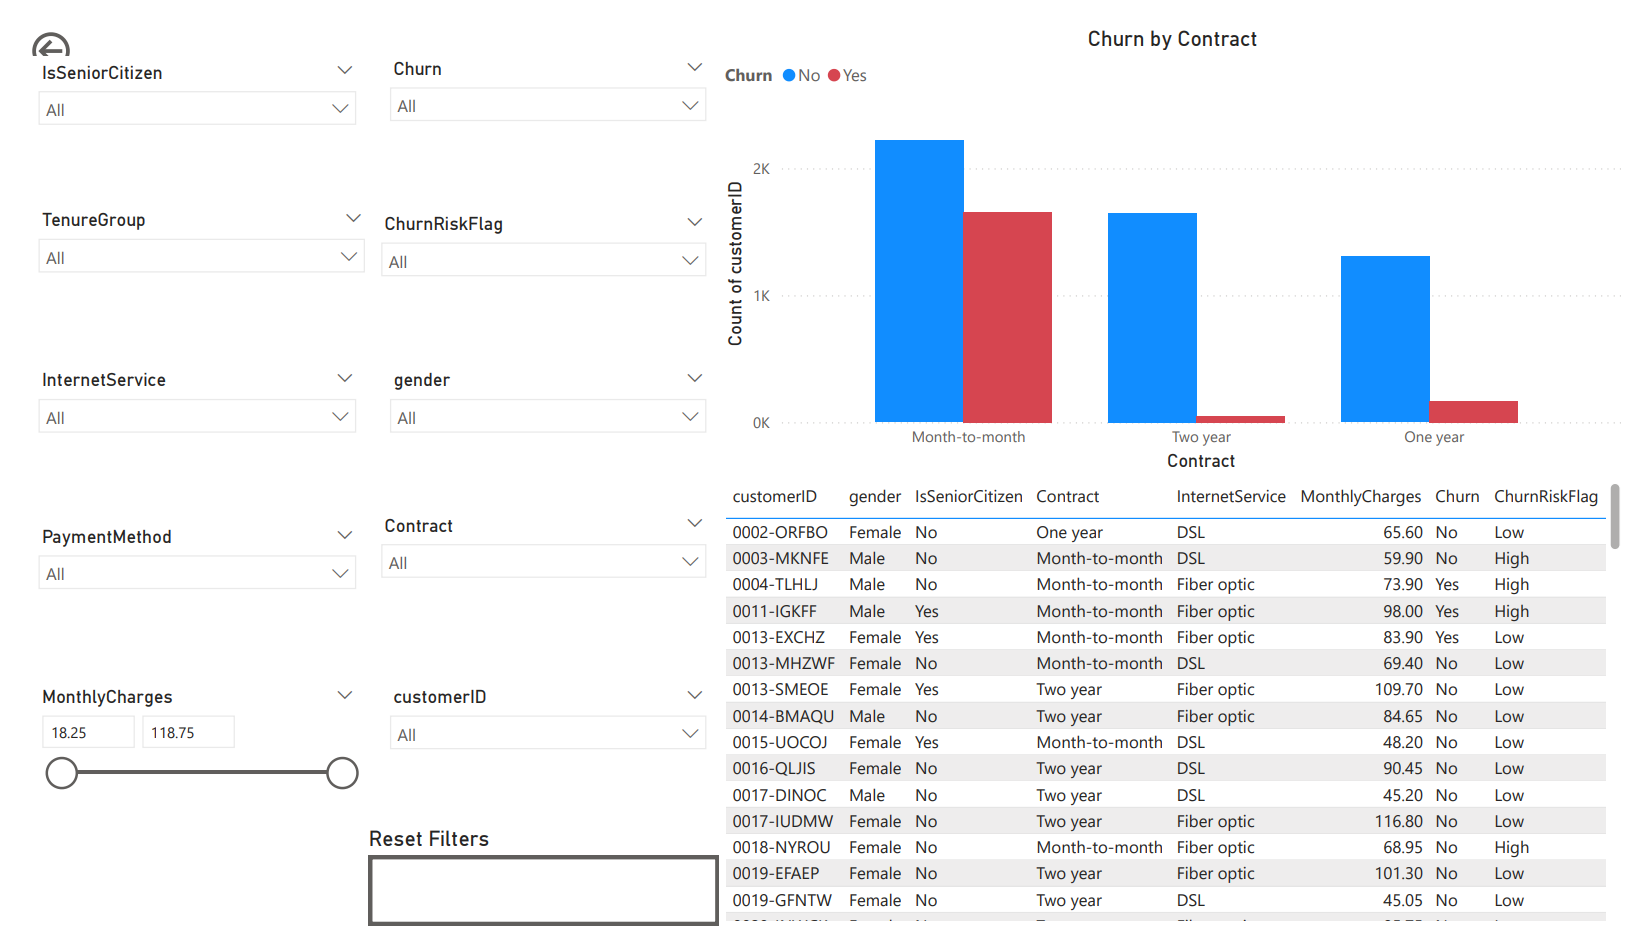

Layout of this report page (visuals, bound fields, positions):
{"tool":"powerbi","page":{"name":"Slicers","canvas":[1280,720],"ordinal":4},"visuals":[{"type":"actionButton","box":[0,0,100,40],"z":0},{"type":"slicer","fields":{"Values":["churn_data_for_dashboard.gender"]},"box":[280.5,270.1,273.6,103.9],"z":1000},{"type":"slicer","fields":{"Values":["churn_data_for_dashboard.Churn"]},"box":[280.5,20.8,273.6,124.7],"z":2000},{"type":"slicer","fields":{"Values":["churn_data_for_dashboard.ChurnRiskFlag"]},"box":[273.6,145.5,280.5,112.6],"z":3000},{"type":"slicer","fields":{"Values":["churn_data_for_dashboard.Contract"]},"box":[273.6,386.2,280.5,110.8],"z":4000},{"type":"slicer","fields":{"Values":["churn_data_for_dashboard.IsSeniorCitizen"]},"box":[0,24.2,273.6,121.2],"z":5000},{"type":"slicer","fields":{"Values":["churn_data_for_dashboard.PaymentMethod"]},"box":[0,394.8,273.6,102.2],"z":6000},{"type":"slicer","fields":{"Values":["churn_data_for_dashboard.TenureGroup"]},"box":[0,142,280.5,116],"z":7000},{"type":"slicer","fields":{"Values":["churn_data_for_dashboard.customerID"]},"box":[280.5,523,273.6,107.4],"z":8000},{"type":"slicer","fields":{"Values":["churn_data_for_dashboard.InternetService"]},"box":[0,270.1,273.6,116],"z":9000},{"type":"slicer","fields":{"Values":["churn_data_for_dashboard.MonthlyCharges"]},"box":[0,523,273.6,197.4],"z":10000},{"type":"clusteredColumnChart","title":"Churn by Contract","fields":{"Category":["churn_data_for_dashboard.Contract"],"Series":["churn_data_for_dashboard.Churn"],"Y":["CountNonNull(churn_data_for_dashboard.customerID)"]},"box":[554.1,0,725.6,360.2],"z":11000},{"type":"tableEx","fields":{"Values":["churn_data_for_dashboard.customerID","churn_data_for_dashboard.gender","churn_data_for_dashboard.IsSeniorCitizen","churn_data_for_dashboard.Contract","churn_data_for_dashboard.InternetService","churn_data_for_dashboard.MonthlyCharges","churn_data_for_dashboard.Churn","churn_data_for_dashboard.ChurnRiskFlag"]},"box":[554.1,360.2,725.6,360.2],"z":12000},{"type":"actionButton","title":"Reset Filters","box":[273.6,639,280.5,79.7],"z":13000}]}

Visuals, with their boxes in screenshot pixels (x1, y1, x2, y2), scaled from the page's 1280x720 canvas onto the 1651x950 screenshot:
actionButton: x1=0, y1=0, x2=129, y2=53
slicer - churn_data_for_dashboard.gender: x1=362, y1=356, x2=715, y2=493
slicer - churn_data_for_dashboard.Churn: x1=362, y1=27, x2=715, y2=192
slicer - churn_data_for_dashboard.ChurnRiskFlag: x1=353, y1=192, x2=715, y2=341
slicer - churn_data_for_dashboard.Contract: x1=353, y1=510, x2=715, y2=656
slicer - churn_data_for_dashboard.IsSeniorCitizen: x1=0, y1=32, x2=353, y2=192
slicer - churn_data_for_dashboard.PaymentMethod: x1=0, y1=521, x2=353, y2=656
slicer - churn_data_for_dashboard.TenureGroup: x1=0, y1=187, x2=362, y2=340
slicer - churn_data_for_dashboard.customerID: x1=362, y1=690, x2=715, y2=832
slicer - churn_data_for_dashboard.InternetService: x1=0, y1=356, x2=353, y2=509
slicer - churn_data_for_dashboard.MonthlyCharges: x1=0, y1=690, x2=353, y2=949
"Churn by Contract" clusteredColumnChart: x1=715, y1=0, x2=1650, y2=475
tableEx - churn_data_for_dashboard.customerID x churn_data_for_dashboard.gender: x1=715, y1=475, x2=1650, y2=949
"Reset Filters" actionButton: x1=353, y1=843, x2=715, y2=948
